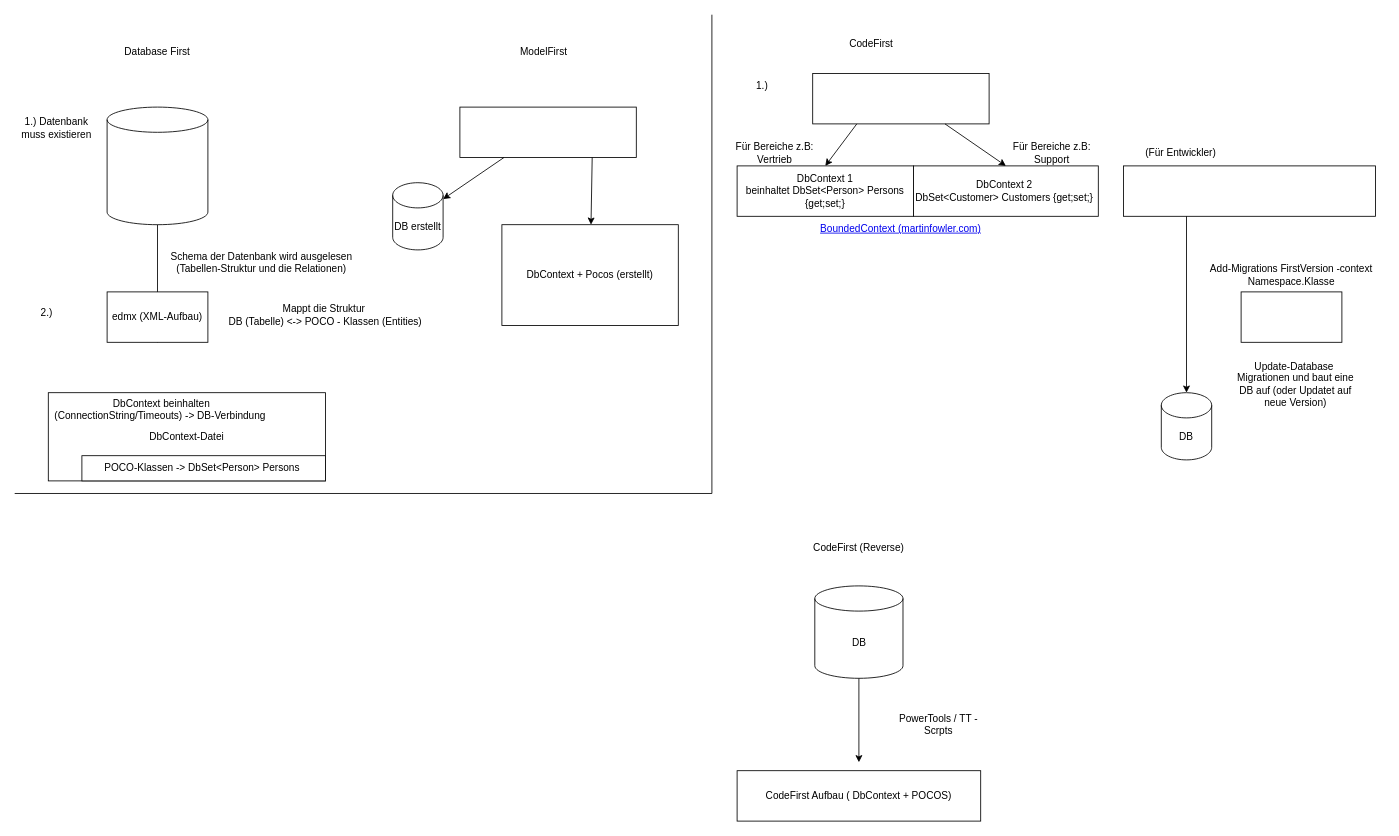
The diagram is 1399 pixels wide and 836 high, and some of its shapes have lost their labels. The shapes that lost their labels are listed below. From the top down, each one's centre as x and y in pixels, then its label:
At pixel 900 98: "Erstellen von POCOS (Entities) in Verbindung mit DataAnnotation oder FluentAPI".
At pixel 547 132: "edmx (XML - Aufbau)".
At pixel 157 165: "MSSQL - DB".
At pixel 1249 190: "Alle DbSets für CodeFirst Kontrolle".
At pixel 1291 316: "SQL-Script in C#".
